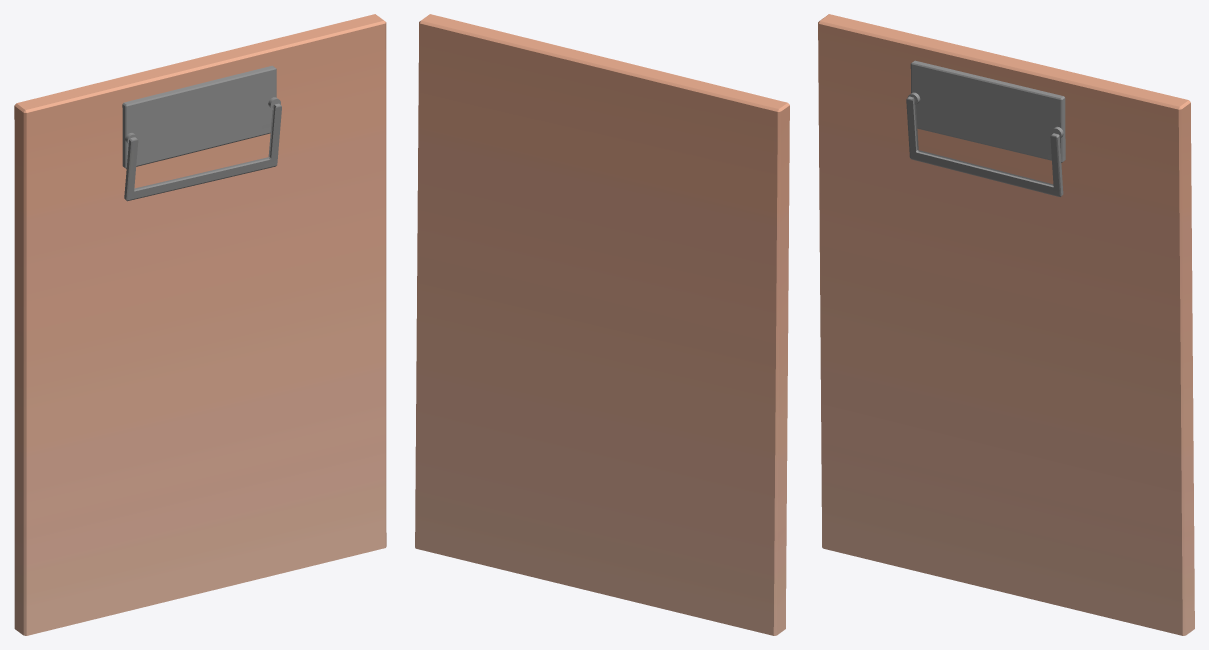
Rendered from Clipboard.fbx.
3 views of the same model, side by side, from view 1: azimuth 30°, elevation 25°; view 2: azimuth 150°, elevation 25°; view 3: azimuth 330°, elevation 25° (orthographic).
Parts seen in each view (by area): view 1: Clipboard; view 2: Clipboard; view 3: Clipboard.
Part boxes in pixels (x1,y1,x2,y2): Clipboard: (14,14,386,635); Clipboard: (415,14,789,635); Clipboard: (818,14,1194,635).
Bounding box in the file's own units: 0.2985 × 0.4133 × 0.0317.
